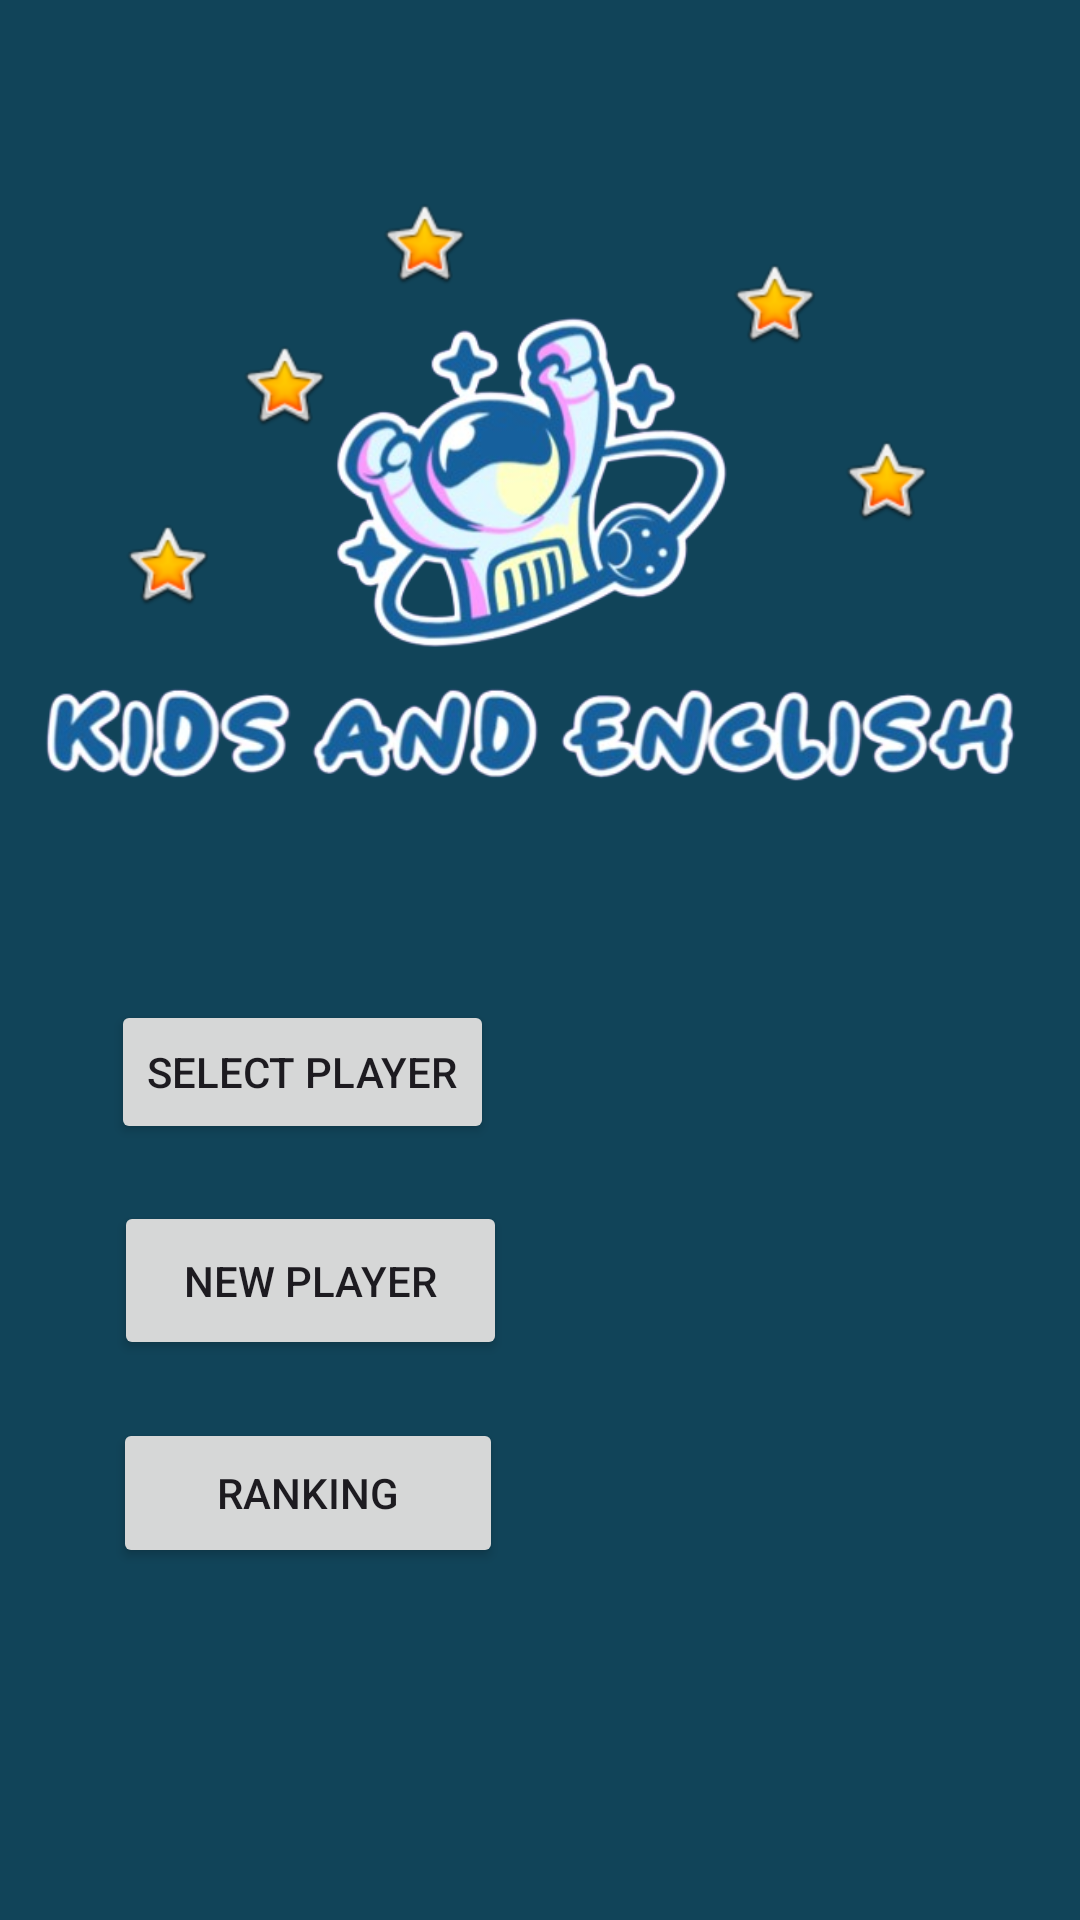

Locate icon controls on the screen. Image size 1080w x 1920h, boxes as rect(x1, y1, x2, y2).
star on: rect(386, 206, 463, 281), rect(736, 266, 813, 341), rect(246, 348, 323, 423), rect(848, 443, 925, 518), rect(129, 527, 206, 602)
